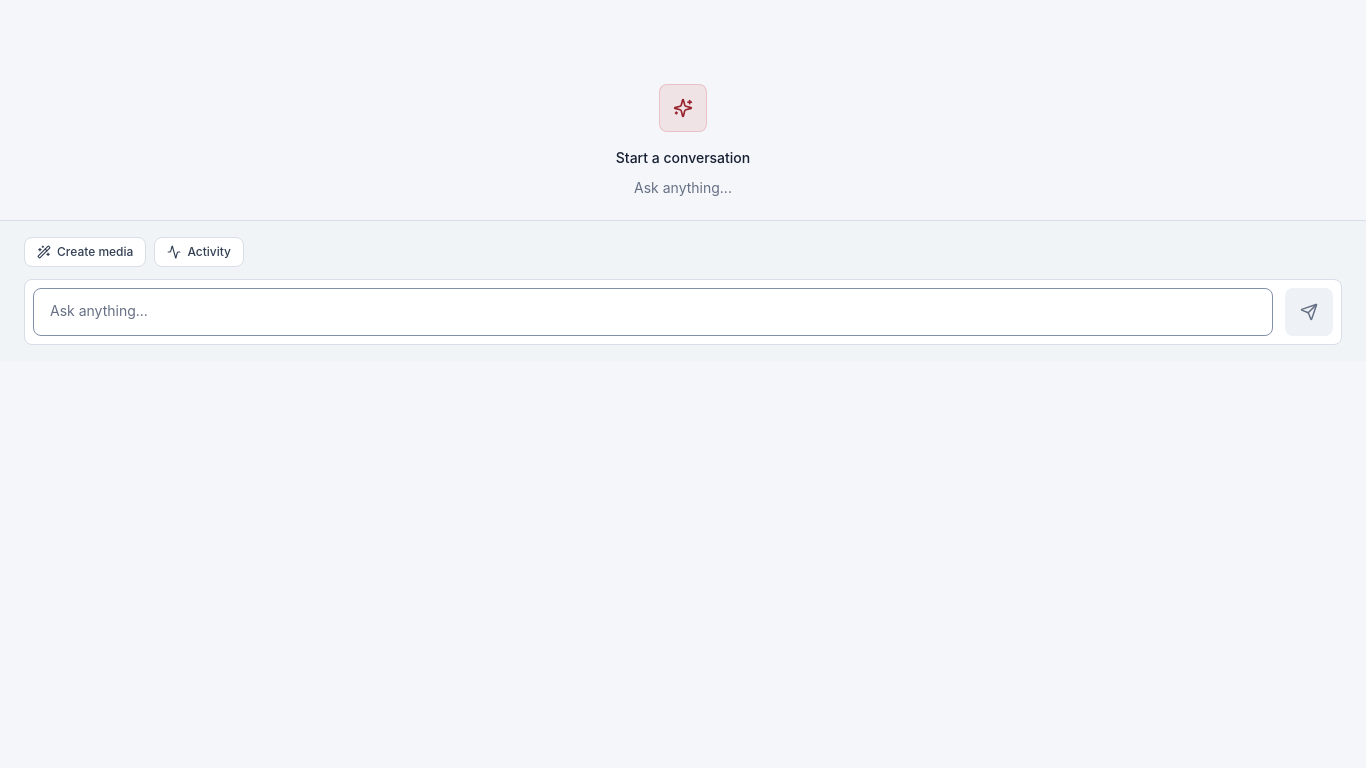
opens a clarification popup and resumes the same task only after an explicit answer
The width and height of the screenshot is (1366, 768).
In the text box named "Message": (653, 312) [33,288,1273,336], type "Make a cat image"
Then press Enter
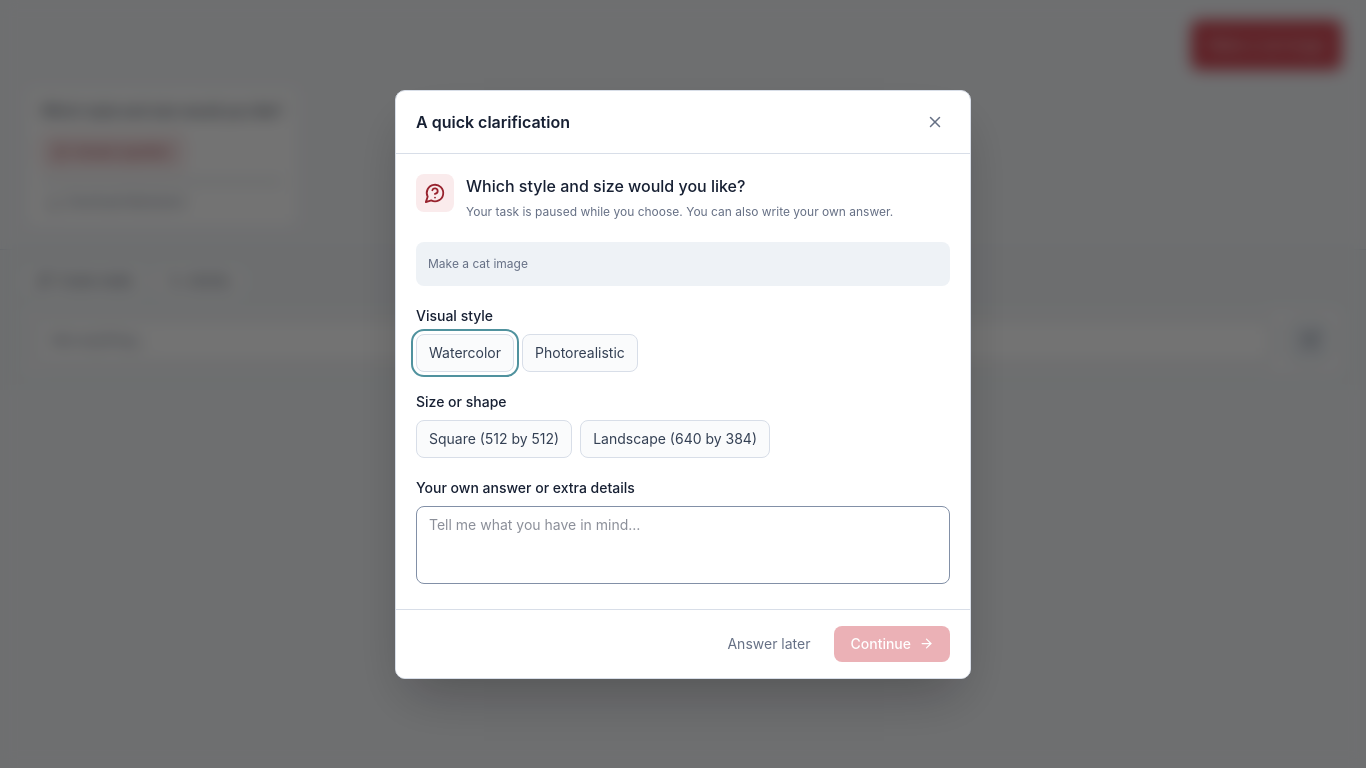
Expected: the button "Continue" is disabled, [834,626,950,662]
Click the button "Watercolor": (465, 352) [416,334,514,372]
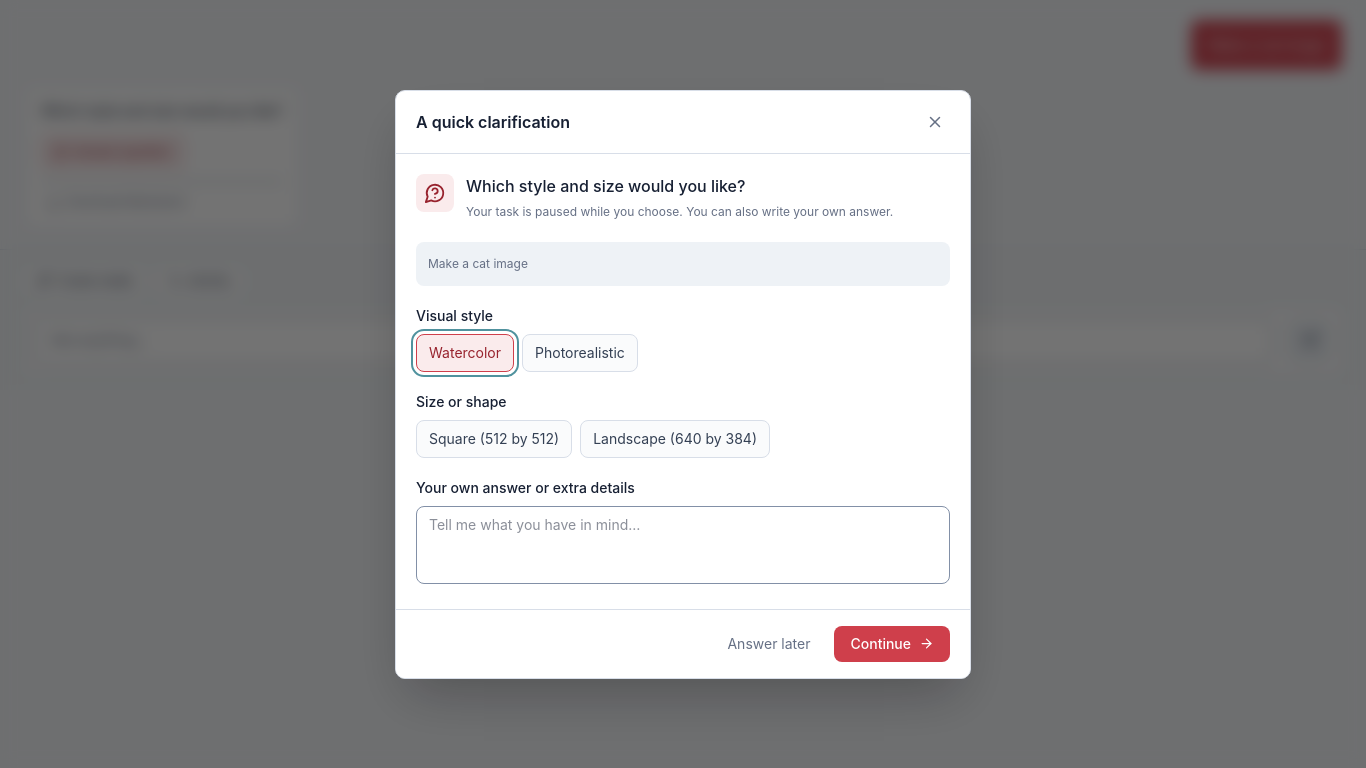
Click the button "Square (512 by 512)": (494, 438) [416,420,572,458]
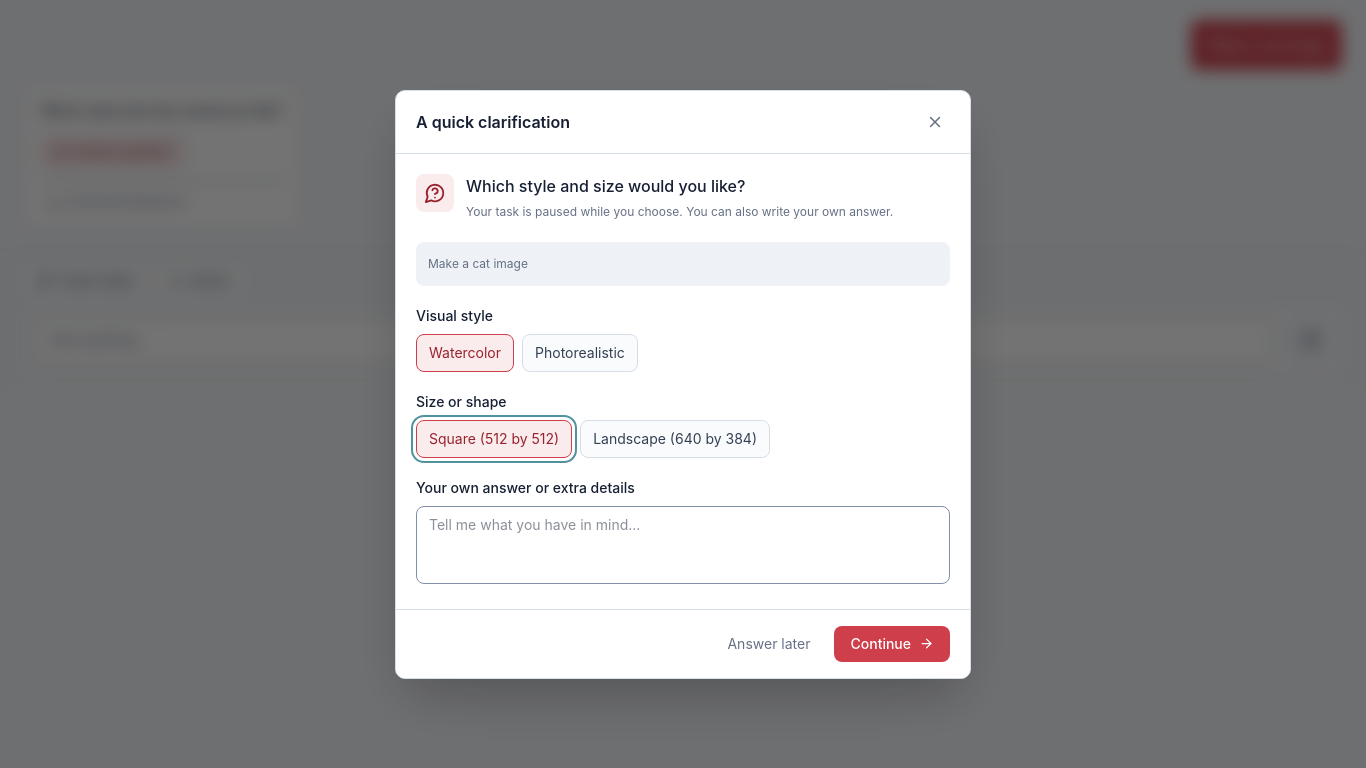
In the text box named "Clarification answer": (683, 544) [416,506,950,584], type "Keep the window in the scene"
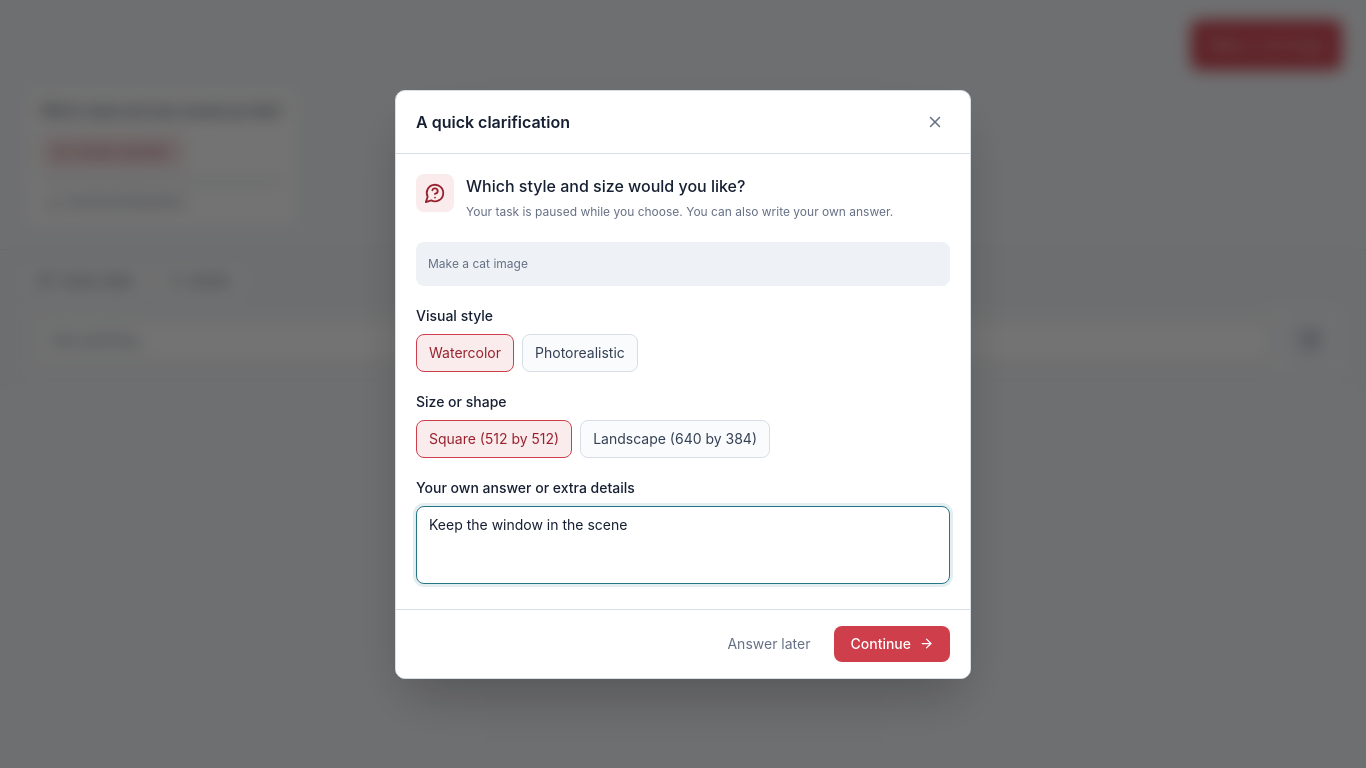
Click the button "Continue": (892, 644) [834,626,950,662]
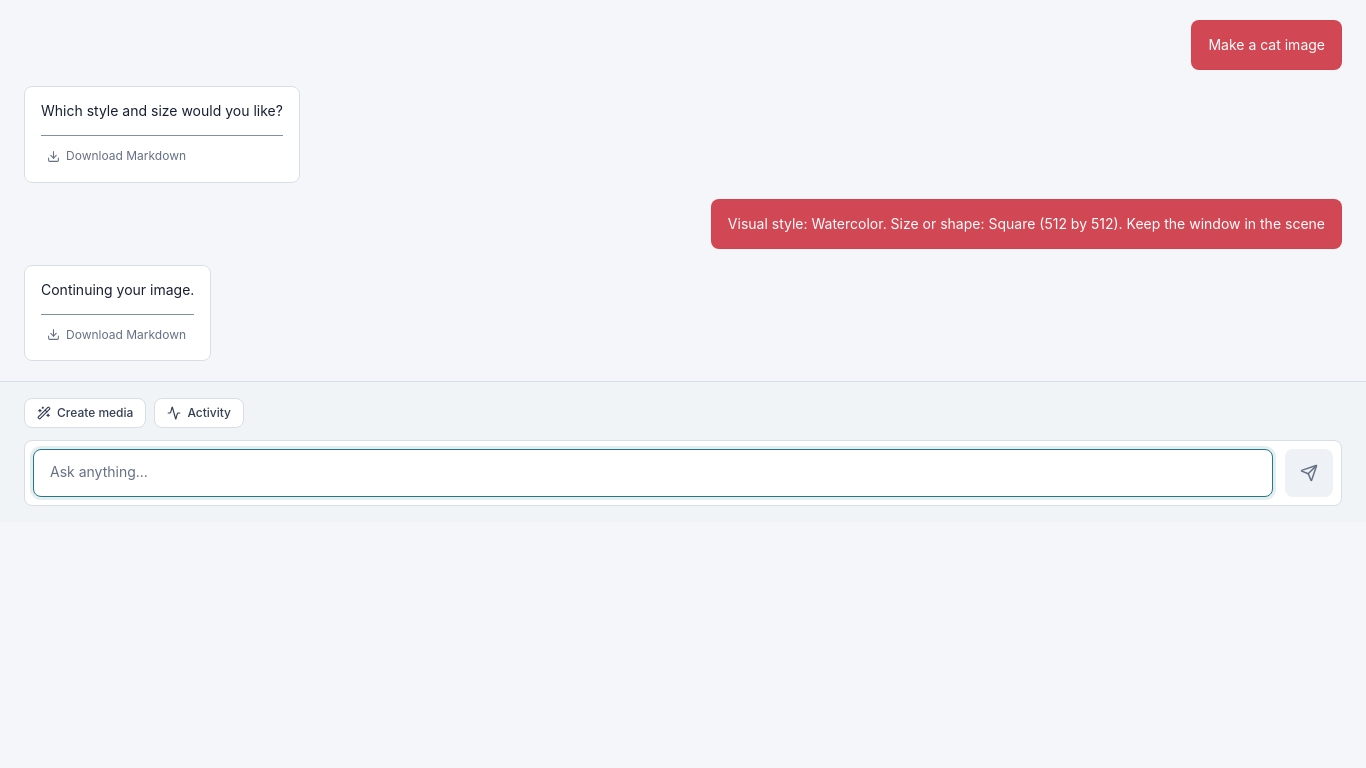
Expected: the text "Continuing your image." is shown, [41,278,194,302]
Expected: the button "Answer question" is gone
